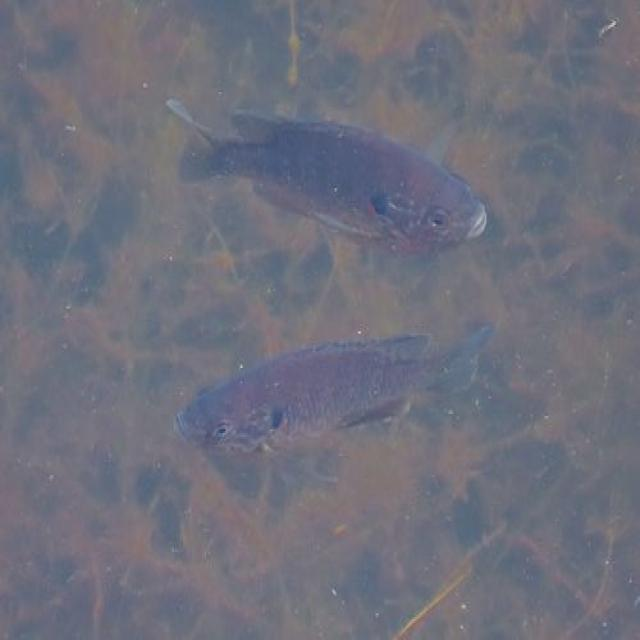Gunes Levregi: (166, 94, 490, 278)
